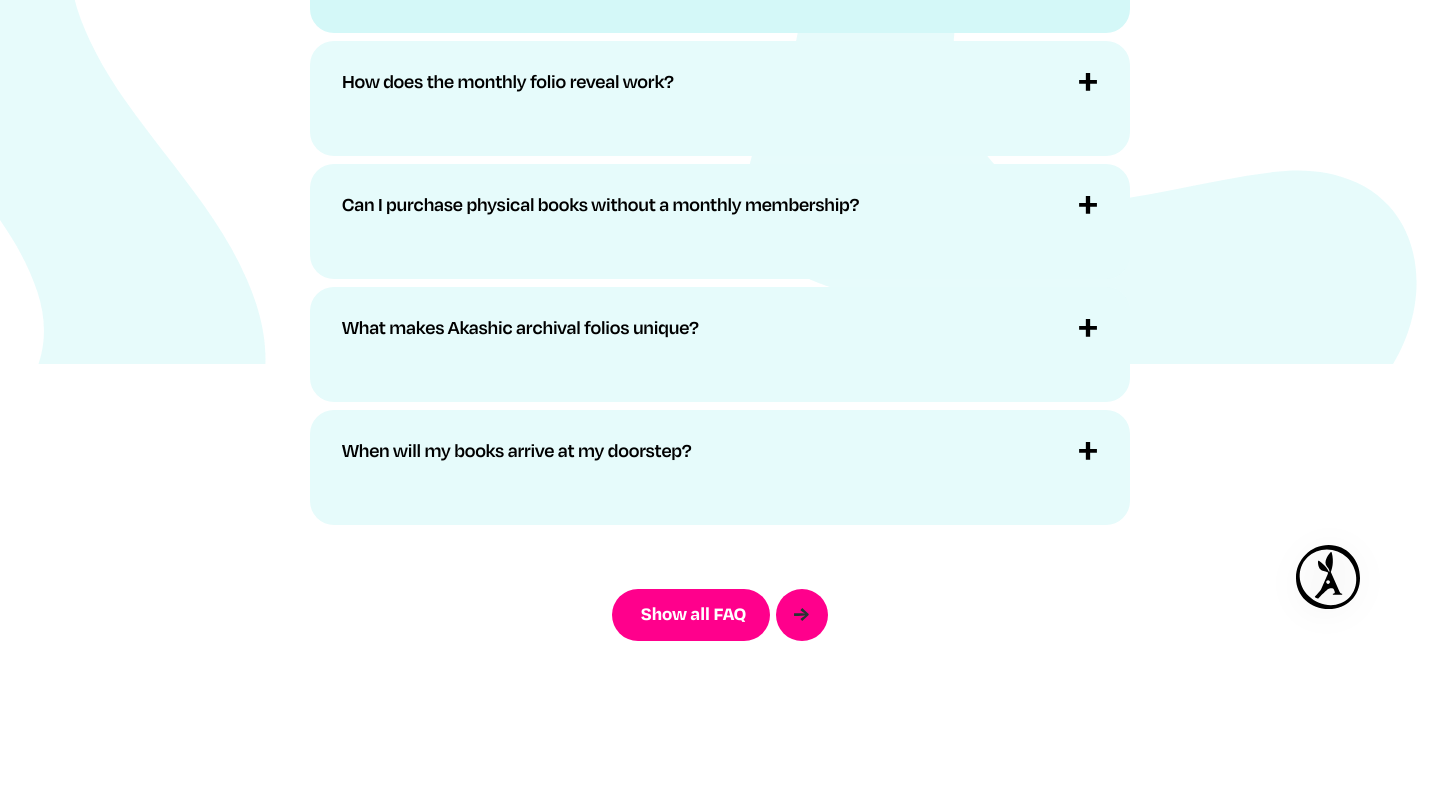
CommonQuestionsSection Component › expands all 8 questions when "Show all FAQ" is clicked, and collapses on toggle
(page scrolled)
What coordinates should you click on to do the following:
click the button with test id "show-all-faq-button"
I would click on:
 (720, 615)
Its box is [612,589,828,641].
(page scrolled)
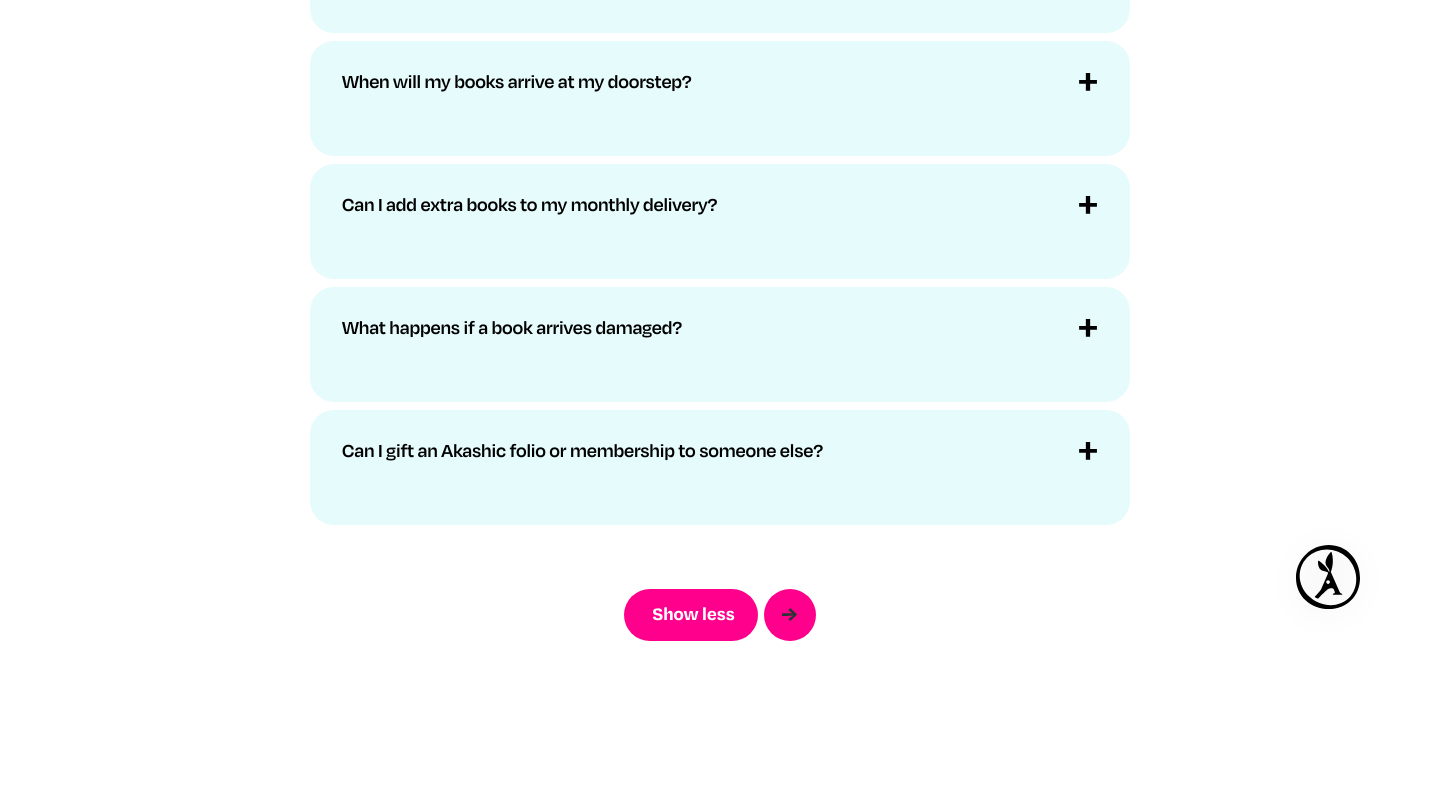
expect the heading "Can I add extra books to my monthly delivery?" is shown: met, box [342,192,717,218]
expect the heading "What happens if a book arrives damaged?" is shown: met, box [342,315,682,341]
expect the heading "Can I gift an Akashic folio or membership to someone else?" is shown: met, box [342,438,823,464]
// Clicking again collapses back to initial 5
What coordinates should you click on to do the following:
click the button with test id "show-all-faq-button"
I would click on:
 (720, 615)
Its box is [624,589,816,641].
(page scrolled)
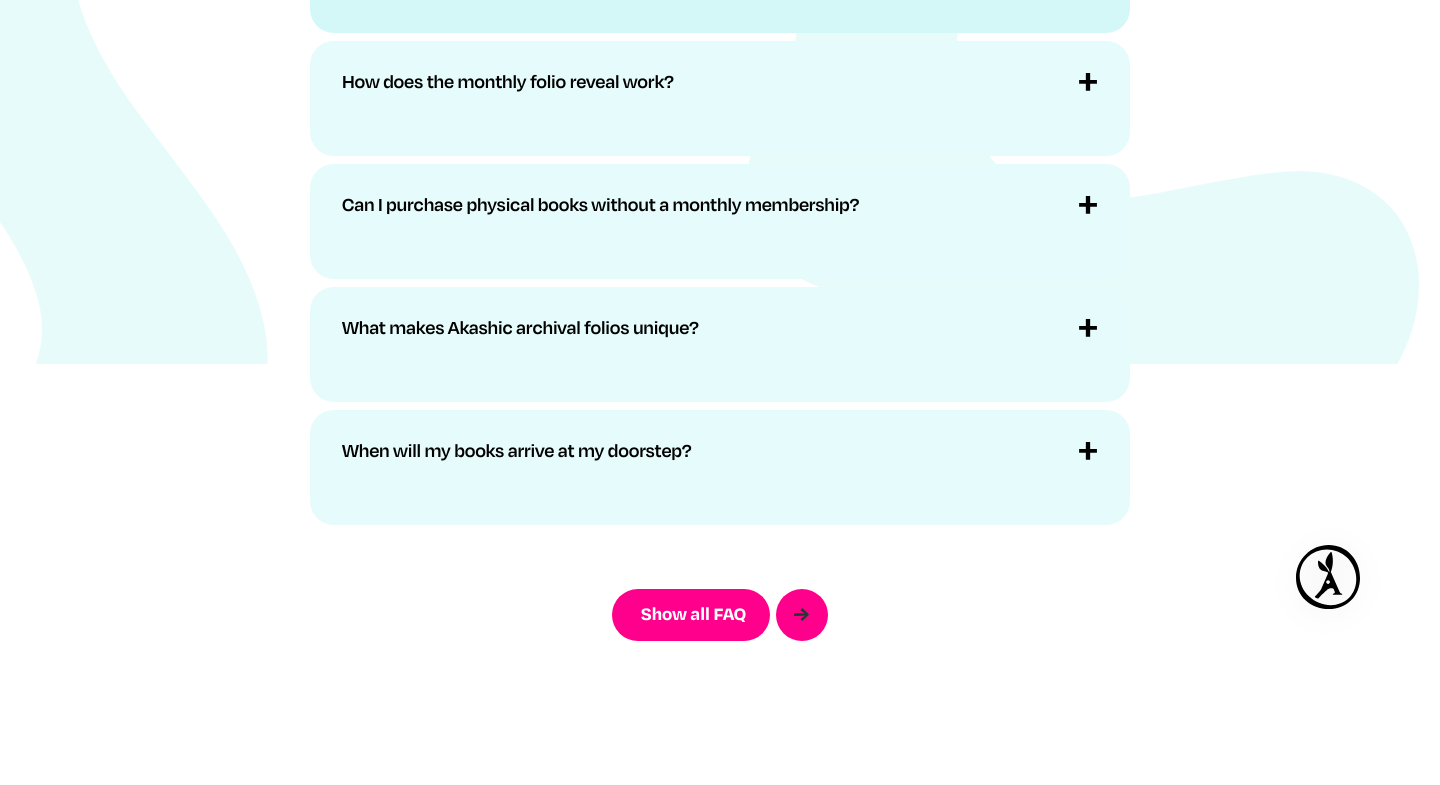
expect the button "Can I add extra books to my monthly delivery?" is gone: met
